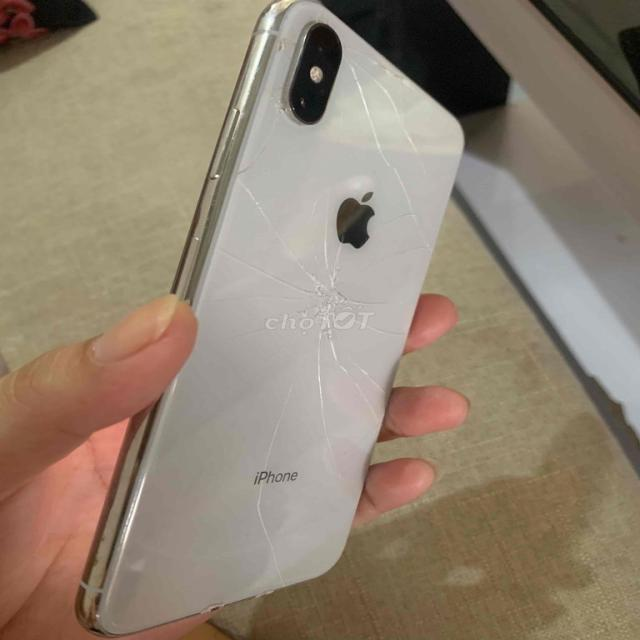physical_damage: (78, 0, 462, 635)
